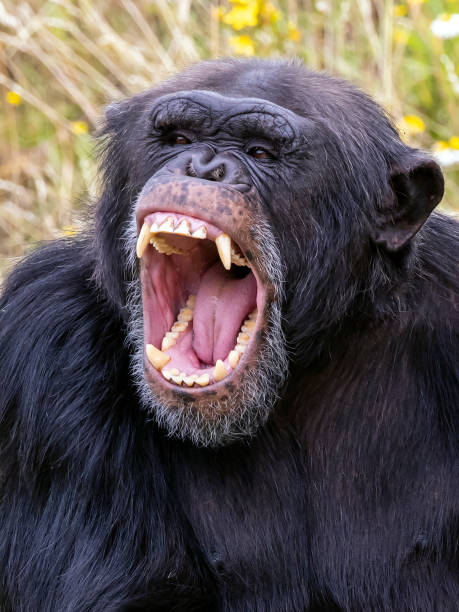chimpanzee: (34, 33, 459, 448)
